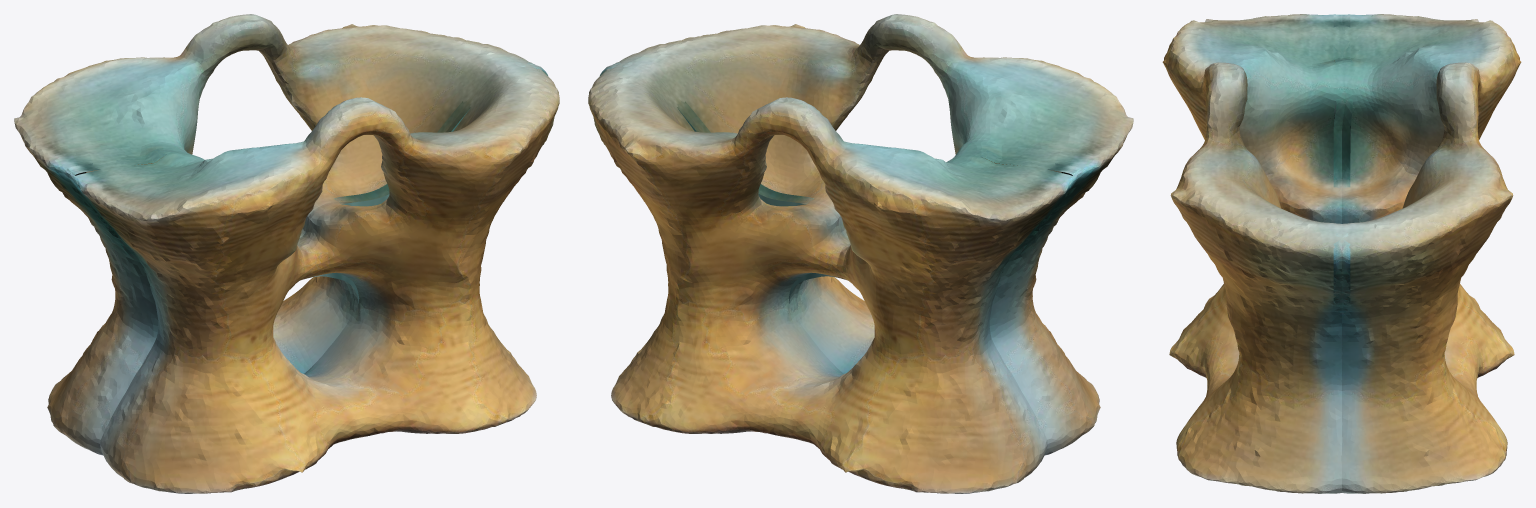
The picture shows the model from 3 angles, left to right: view 1: azimuth 30°, elevation 25°; view 2: azimuth 150°, elevation 25°; view 3: azimuth 270°, elevation 25°; orthographic projection.
Visible parts, largest first — view 1: Mesh_0; view 2: Mesh_0; view 3: Mesh_0.
Boxes of the visible parts, x1,y1,x2,y2 form: Mesh_0: [14, 14, 559, 493]; Mesh_0: [588, 14, 1133, 493]; Mesh_0: [1162, 14, 1521, 493].
Size of the model in its own units: 0.9876 by 0.6893 by 0.6454.
Materials: 1 (1 with a texture image).
